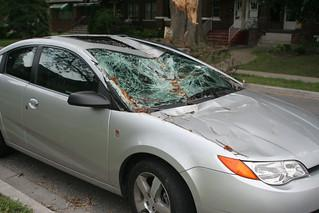Front-Windscreen-Damage: (89, 46, 238, 102)
bonnet-dent: (176, 99, 318, 168)
roof-dent: (35, 29, 163, 55)
